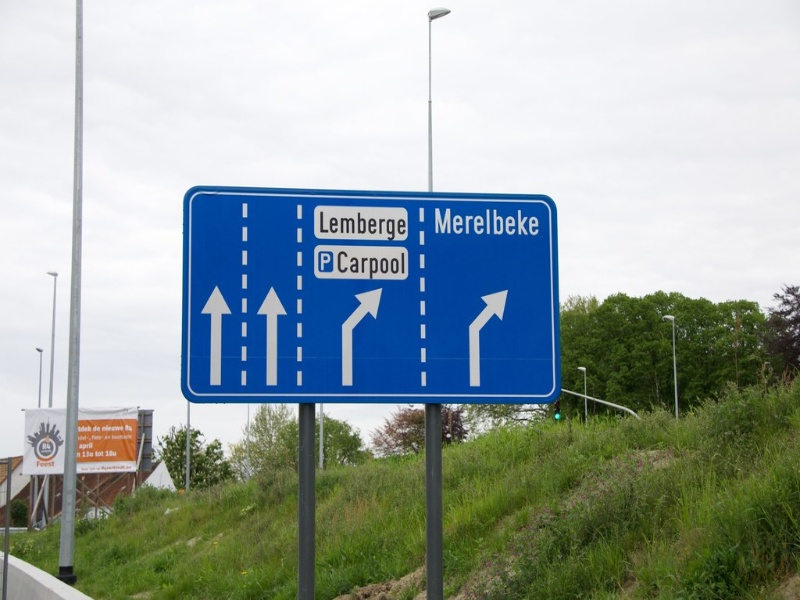parking: (317, 249, 335, 273)
right_turn_ahead: (330, 280, 395, 388), (460, 284, 512, 388)
straight_direction: (252, 278, 289, 390), (200, 278, 236, 388)
